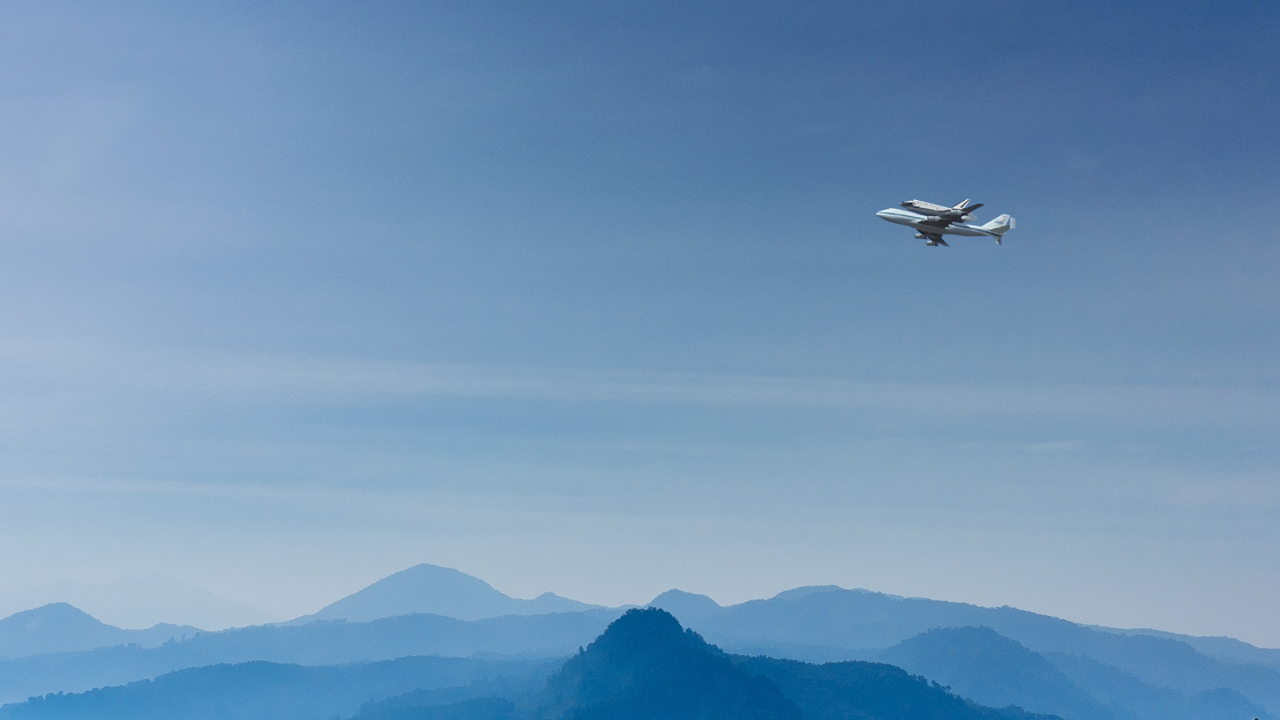military drone: (876, 198, 1015, 246)
